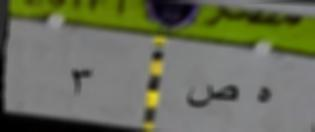3: (65, 59, 97, 103)
haa: (254, 80, 275, 113)
saad: (182, 78, 241, 118)
